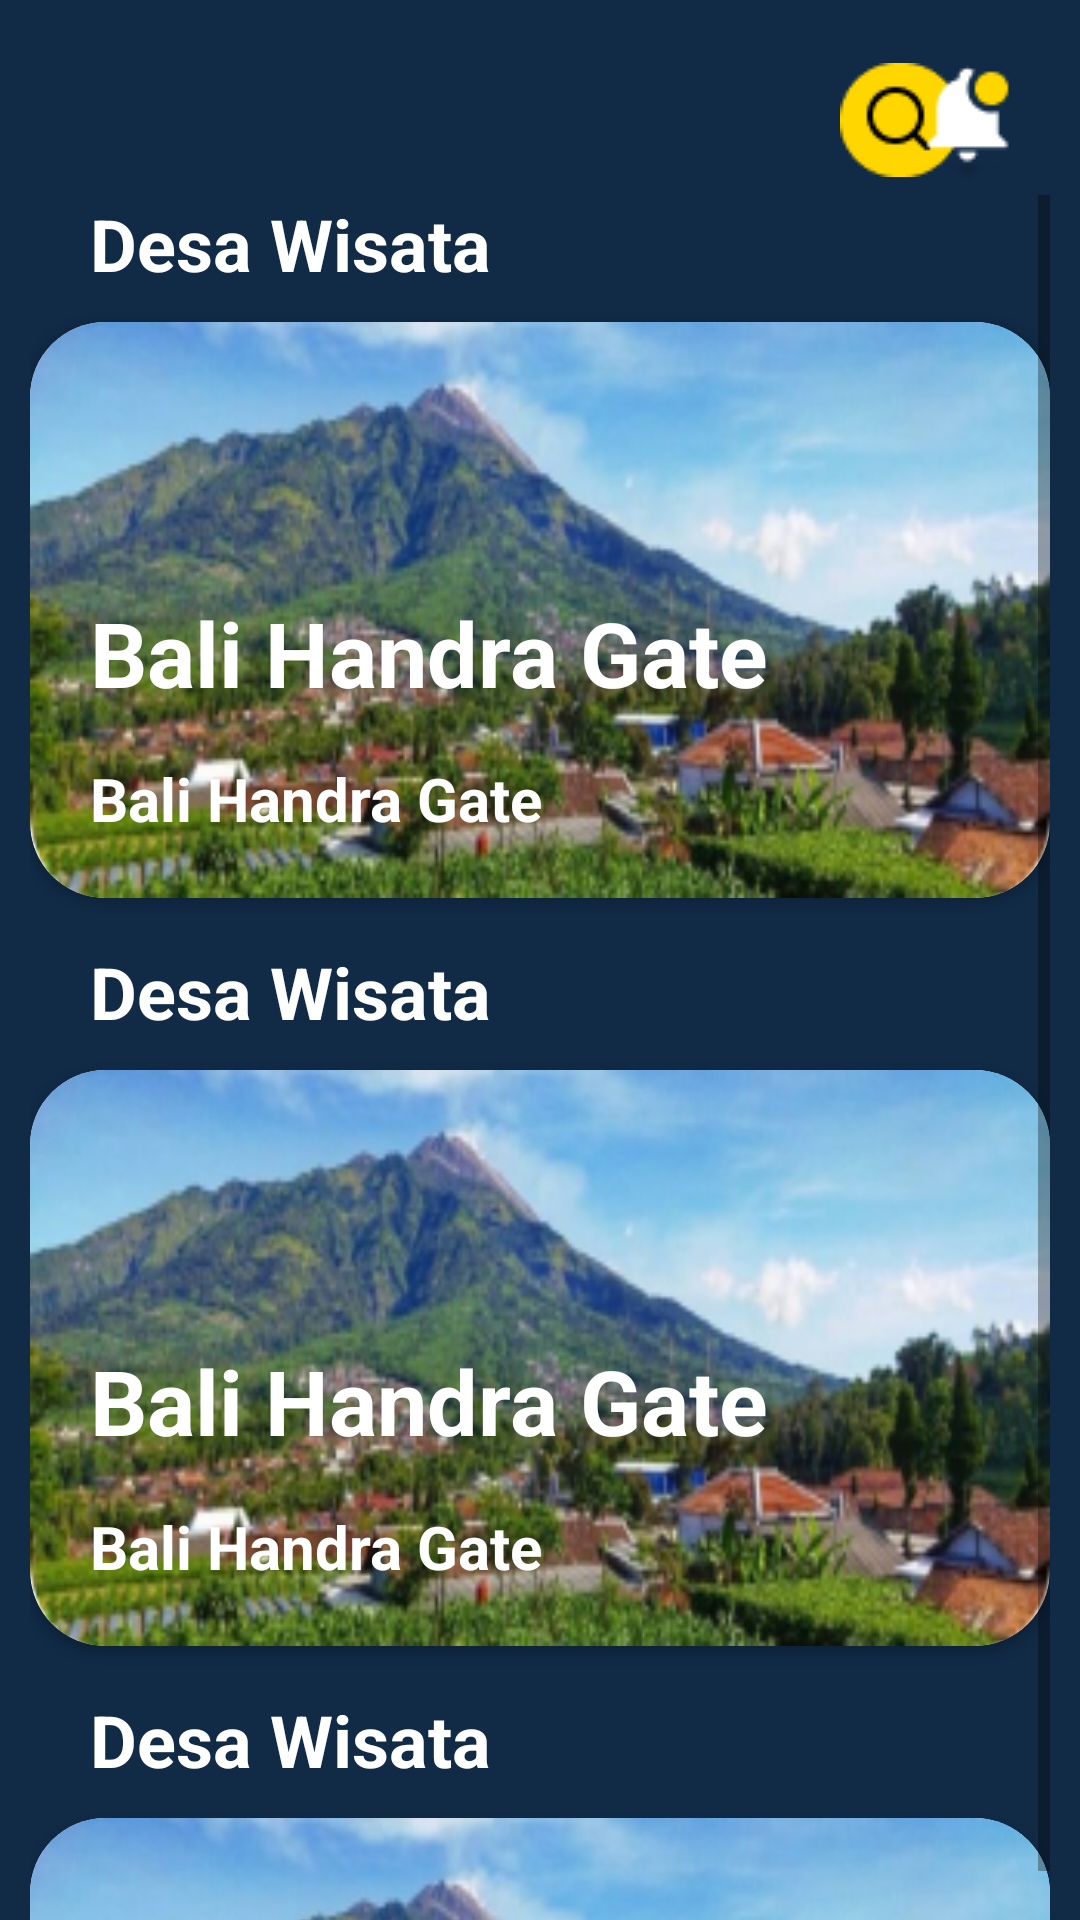

Icons on this 1080*1920 Android screen, each with its box as (x1, y1, x2, y2):
notif: (915, 63, 1009, 177)
search: (840, 63, 960, 177)
